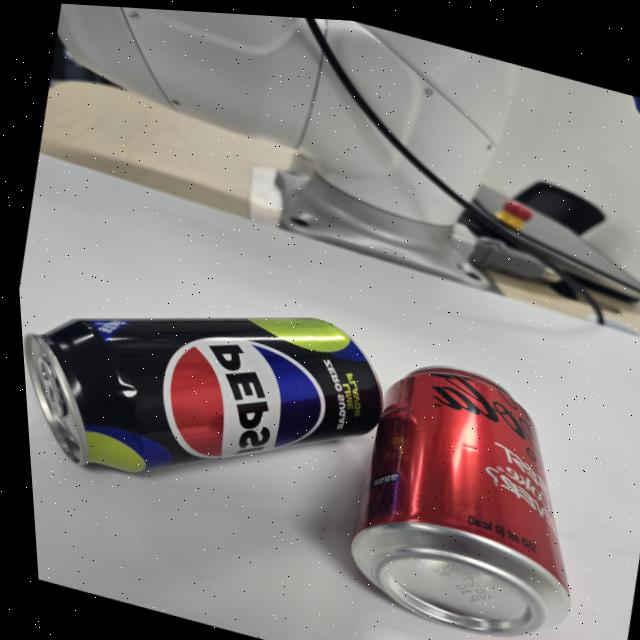can_coke_zero: (352, 369, 570, 638)
can_pepsi_zero: (30, 321, 378, 476)
